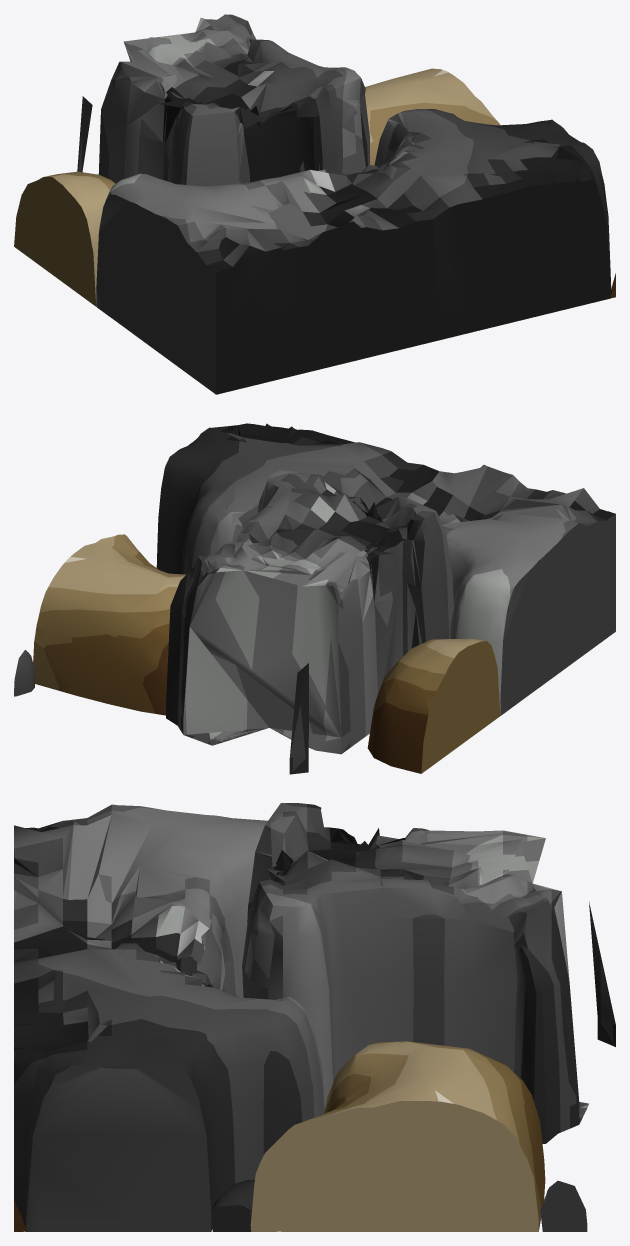
The model's file is rock_machine_tc_damaged.glb.
3 views of the same model, one above another, from view 1: azimuth 30°, elevation 25°; view 2: azimuth 150°, elevation 25°; view 3: azimuth 270°, elevation 25° (orthographic). The views are drawn at different scales.
Parts seen in each view (by area): view 1: body, tower, rock; view 2: tower, body, rock, grips; view 3: body, tower, rock, grips.
Part boxes in pixels (x1,y1,x2,y2): body: (96,109,611,394); tower: (77,14,369,186); rock: (14,68,615,306); tower: (166,470,453,774); body: (156,423,615,715); rock: (33,534,500,773); grips: (14,650,34,696); body: (14,804,324,1231); tower: (242,803,615,1143); rock: (14,1041,545,1231); grips: (212,1179,587,1231).
Size of the model in its own units: 24 by 10.76 by 24.62.
